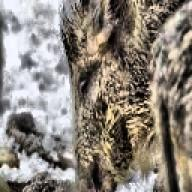boar: (58, 0, 192, 192), (147, 0, 192, 192)
